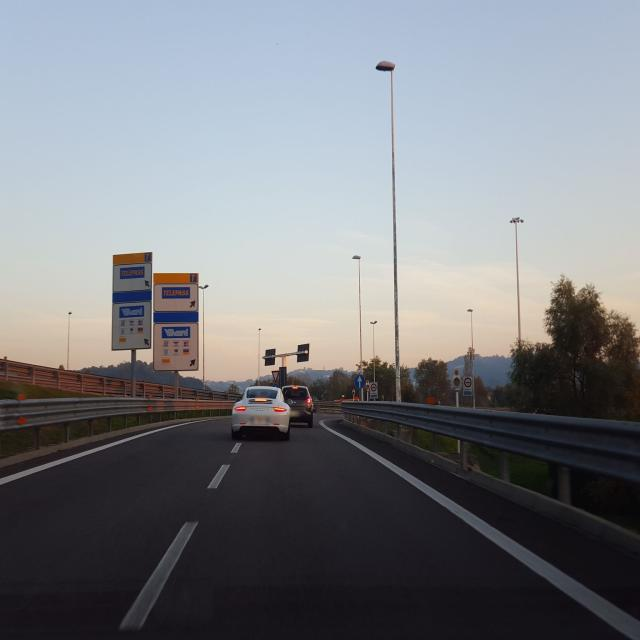car: (230, 384, 292, 440), (281, 384, 315, 428)
